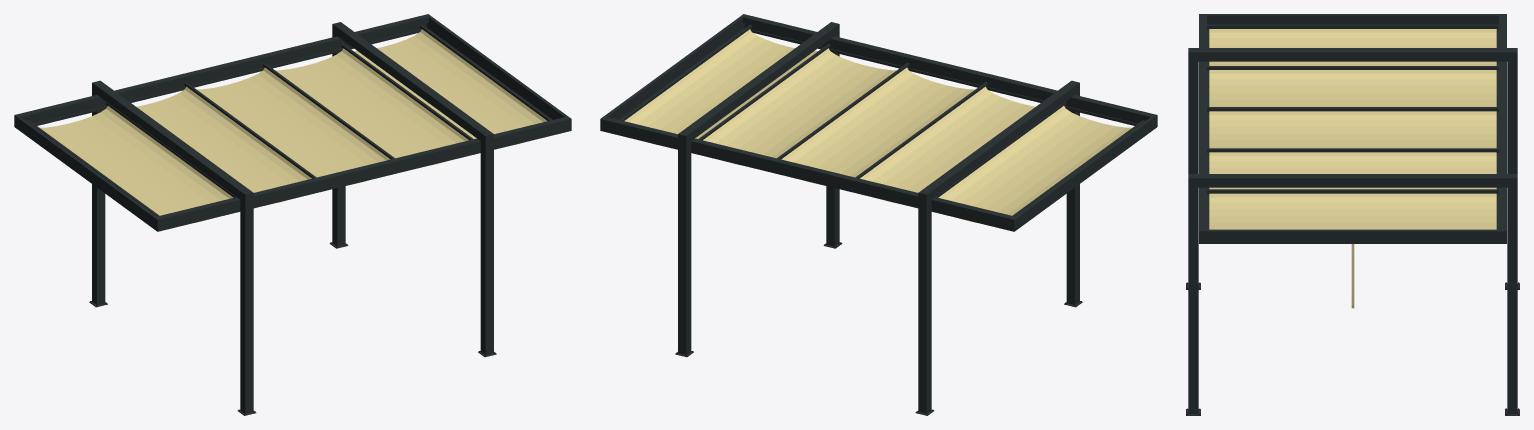
The picture shows the model from 3 angles, left to right: view 1: azimuth 30°, elevation 25°; view 2: azimuth 150°, elevation 25°; view 3: azimuth 270°, elevation 25°; orthographic projection. The views are drawn at different scales.
Visible parts, largest first — view 1: priximbattable_net_pergola_toile_1529_pergola_toile_et_alumi, Tube_6, Tube_4, Tube_3, Tube_5, Tube_2, barra_4, barra_3, barra_1, barra_2; view 2: priximbattable_net_pergola_toile_1529_pergola_toile_et_alumi, Tube_6, Tube_4, Tube_3, Tube_5, Tube_2, barra_4, barra_3, barra_1, barra_2; view 3: priximbattable_net_pergola_toile_1529_pergola_toile_et_alumi, Tube_4, Tube_2, Tube_5, Tube_3, Tube_6, barra_2_2, barra_3, barra_2, barra_1, barra.
Boxes of the visible parts, box(x1,y1,x2,y2) form: priximbattable_net_pergola_toile_1529_pergola_toile_et_alumi: box(14, 14, 571, 415); Tube_6: box(40, 106, 233, 223); Tube_4: box(197, 67, 390, 184); Tube_3: box(275, 48, 468, 165); Tube_5: box(136, 86, 311, 204); Tube_2: box(354, 29, 547, 146); barra_4: box(418, 24, 551, 120); barra_3: box(339, 43, 473, 140); barra_1: box(182, 82, 316, 178); barra_2: box(261, 63, 394, 159); priximbattable_net_pergola_toile_1529_pergola_toile_et_alumi: box(600, 14, 1157, 415); Tube_6: box(938, 106, 1131, 223); Tube_4: box(781, 67, 974, 184); Tube_3: box(703, 48, 896, 165); Tube_5: box(860, 86, 1035, 204); Tube_2: box(624, 29, 817, 146); barra_4: box(620, 24, 754, 120); barra_3: box(698, 43, 832, 140); barra_1: box(855, 82, 989, 178); barra_2: box(777, 63, 910, 159); priximbattable_net_pergola_toile_1529_pergola_toile_et_alumi: box(1186, 14, 1519, 415); Tube_4: box(1209, 111, 1496, 148); Tube_2: box(1209, 193, 1496, 229); Tube_5: box(1209, 70, 1496, 106); Tube_3: box(1209, 152, 1496, 189); Tube_6: box(1209, 29, 1496, 65); barra_2_2: box(1207, 24, 1498, 29); barra_3: box(1207, 189, 1498, 194); barra_2: box(1207, 148, 1498, 152); barra_1: box(1207, 107, 1498, 111); barra: box(1207, 66, 1498, 70).
Size of the model in its own units: 500 by 254 by 324.
Materials: 1 (1 with a texture image).
